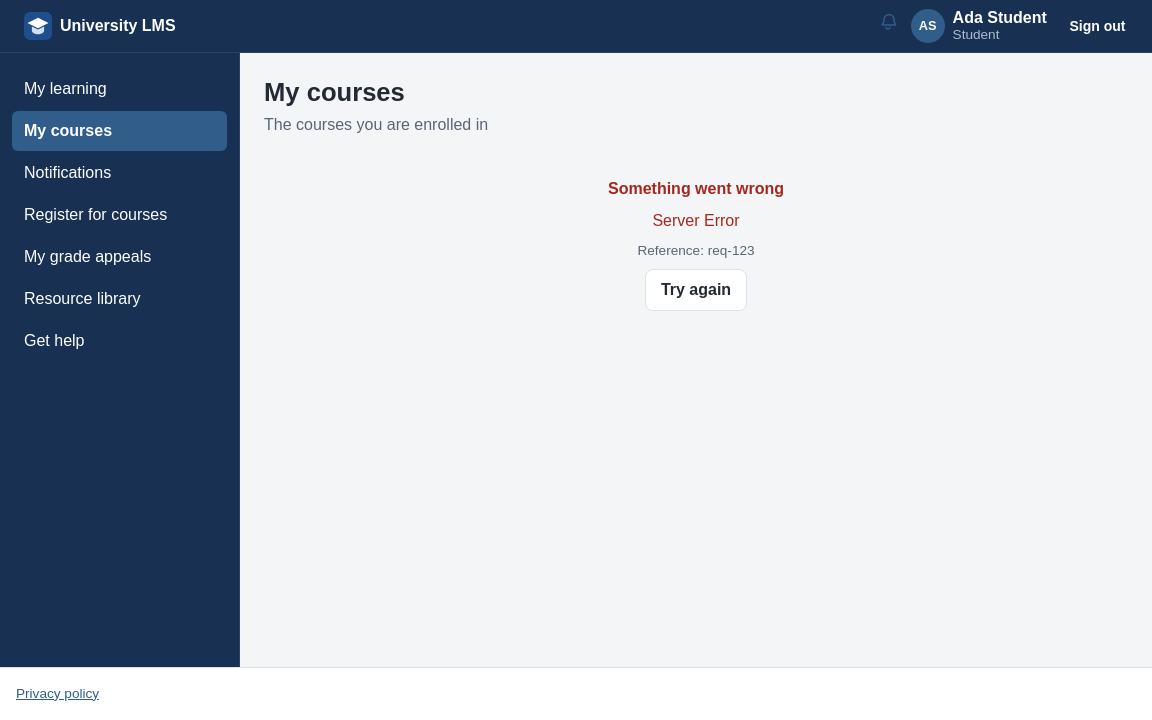
Scenario: what each person sees › shows an error with a retry button when a list cannot be loaded
Expected: the text "Something went wrong" is shown, [608,177,784,201]
Expected: the text "Reference: req-123" is shown, [637,241,754,261]
Click the button "Try again" at (696, 290), box [645,269,747,311]
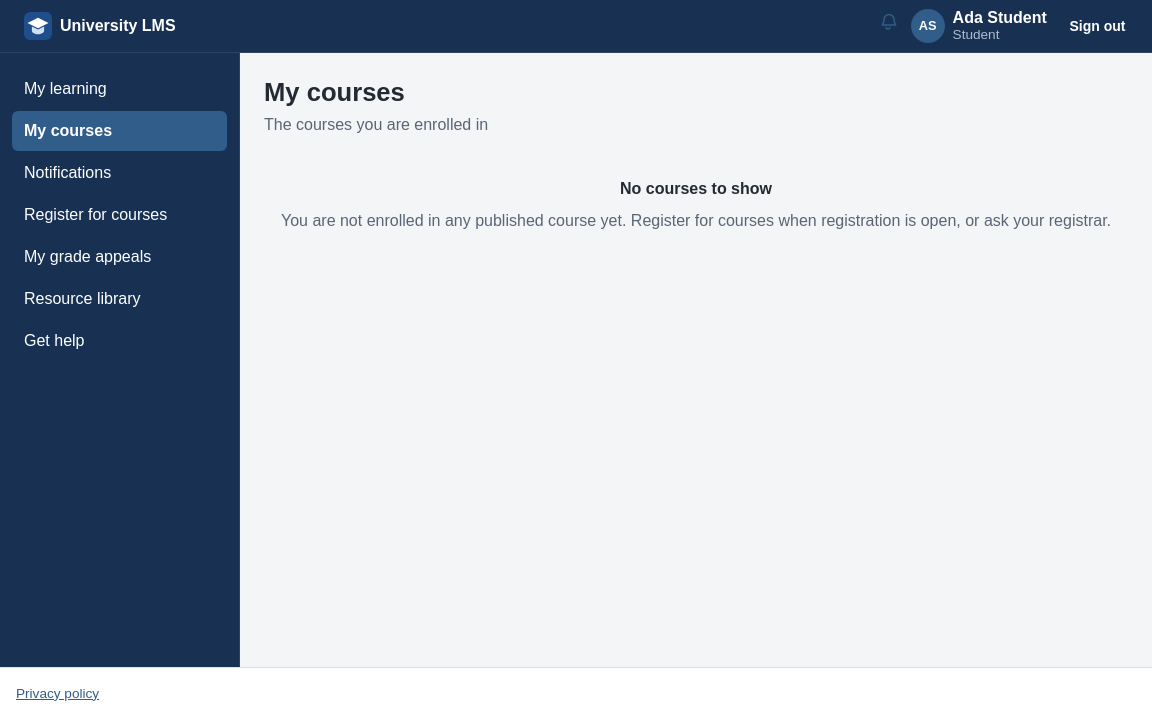
Expected: the text "No courses to show" is shown, [620,177,772,201]
